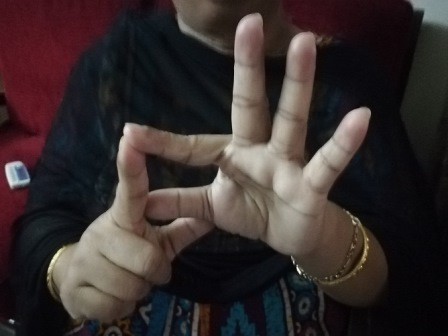k: (109, 13, 372, 265)
